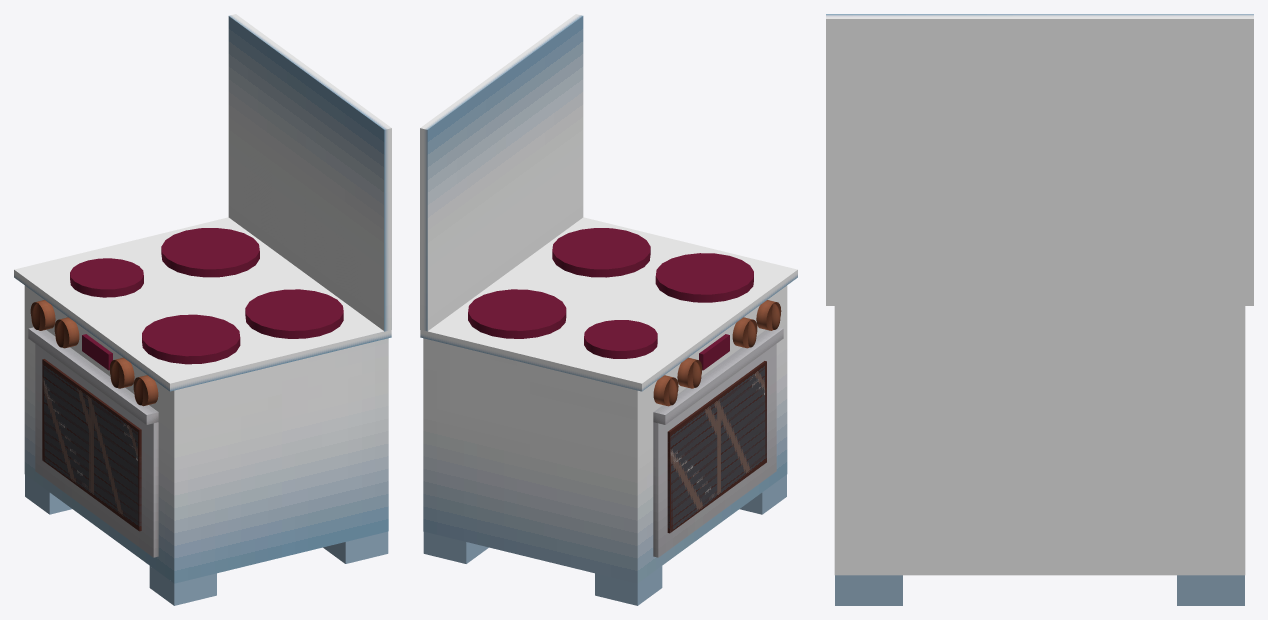
File: objetos.obj
3 renders of one model, left to right at view 1: azimuth 30°, elevation 25°; view 2: azimuth 150°, elevation 25°; view 3: azimuth 270°, elevation 25°, orthographic. The views are drawn at different scales.
Visible parts, largest first — view 1: cuarto:cuarto:polySurface11541; view 2: cuarto:cuarto:polySurface11541; view 3: cuarto:cuarto:polySurface11541.
Part boxes in pixels (x1,y1,x2,y2): cuarto:cuarto:polySurface11541: (14, 14, 391, 605); cuarto:cuarto:polySurface11541: (420, 14, 797, 605); cuarto:cuarto:polySurface11541: (826, 14, 1253, 605).
Size of the model in its own units: 1.35 by 2.39 by 1.57.
6 materials, 6 textured.
